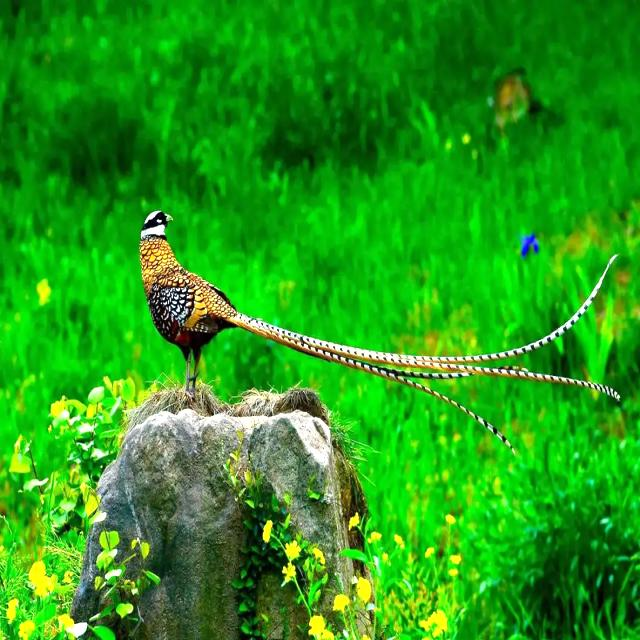Reeves-s Pheasant: (225, 253, 622, 454)
